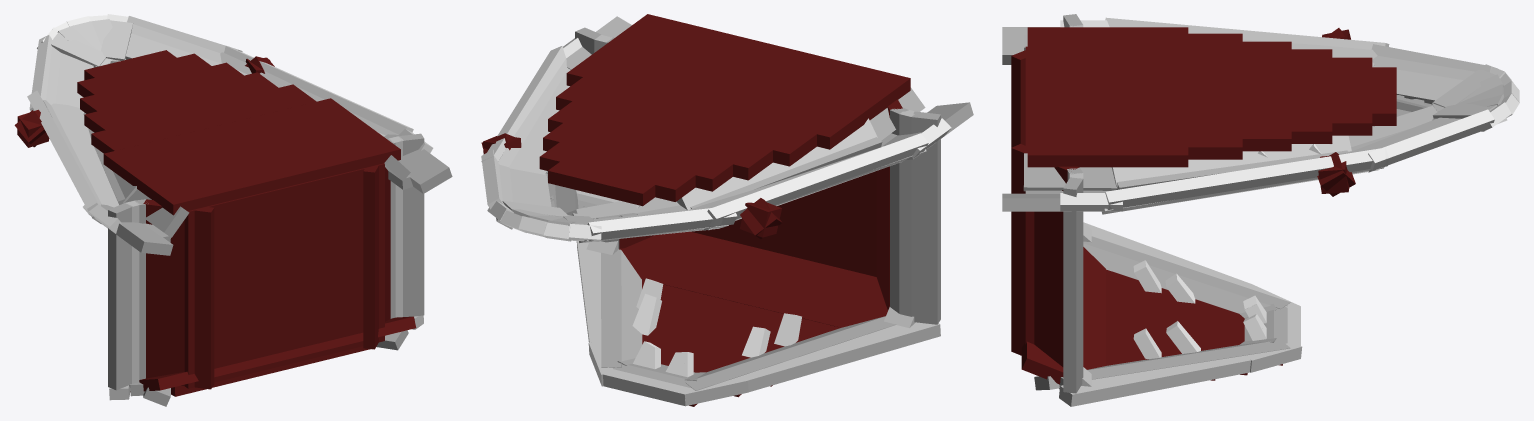
File: jaws3D.dae
The picture shows the model from 3 angles, left to right: view 1: azimuth 30°, elevation 25°; view 2: azimuth 150°, elevation 25°; view 3: azimuth 270°, elevation 25°; orthographic projection. The views are drawn at different scales.
Visible parts, largest first — view 1: Cube.419, Cube.146, Cube.433, Cube.787, Cube.001, Cube.796, Cube.004, Cube.016, Cube.816, Cube.018, Cube.379, Cube.191 (+26 smaller); view 2: Cube.146, Cube.018, Cube.419, Cube.787, Cube.001, Cube.796, Cube.017, Cube.403, Cube.816, Cube.514, Cube.191, Cube.097 (+34 smaller); view 3: Cube.146, Cube.004, Cube.787, Cube.796, Cube.003, Cube.016, Cube.816, Cube.027, Cube.018, Cube.191, Cube.017, Cube.097 (+32 smaller).
Part boxes in pixels (bbox=[...]): Cube.419: bbox=[184, 163, 384, 388]; Cube.146: bbox=[103, 98, 400, 215]; Cube.433: bbox=[143, 199, 214, 389]; Cube.787: bbox=[91, 84, 316, 153]; Cube.001: bbox=[108, 203, 132, 390]; Cube.796: bbox=[84, 72, 278, 132]; Cube.004: bbox=[363, 164, 390, 349]; Cube.016: bbox=[398, 133, 424, 316]; Cube.816: bbox=[80, 62, 243, 113]; Cube.018: bbox=[130, 316, 416, 391]; Cube.379: bbox=[51, 103, 118, 207]; Cube.191: bbox=[77, 53, 211, 97]; Cube.146: bbox=[566, 14, 910, 149]; Cube.018: bbox=[619, 231, 887, 327]; Cube.419: bbox=[691, 171, 876, 276]; Cube.787: bbox=[556, 77, 816, 166]; Cube.001: bbox=[911, 111, 940, 324]; Cube.796: bbox=[548, 101, 772, 180]; Cube.017: bbox=[642, 295, 817, 386]; Cube.403: bbox=[742, 322, 940, 391]; Cube.816: bbox=[543, 123, 732, 191]; Cube.514: bbox=[707, 133, 928, 227]; Cube.191: bbox=[539, 142, 695, 201]; Cube.097: bbox=[642, 279, 840, 339]; Cube.146: bbox=[1027, 27, 1188, 167]; Cube.004: bbox=[1011, 144, 1079, 366]; Cube.787: bbox=[1188, 33, 1242, 159]; Cube.796: bbox=[1242, 41, 1291, 151]; Cube.003: bbox=[1105, 147, 1389, 209]; Cube.016: bbox=[1063, 177, 1083, 393]; Cube.816: bbox=[1291, 49, 1332, 143]; Cube.027: bbox=[1059, 356, 1250, 406]; Cube.018: bbox=[1021, 247, 1105, 384]; Cube.191: bbox=[1331, 57, 1372, 135]; Cube.017: bbox=[1140, 284, 1215, 380]; Cube.097: bbox=[1106, 269, 1140, 365].
Size of the model in its own units: 5.12 by 6.1 by 3.44.
